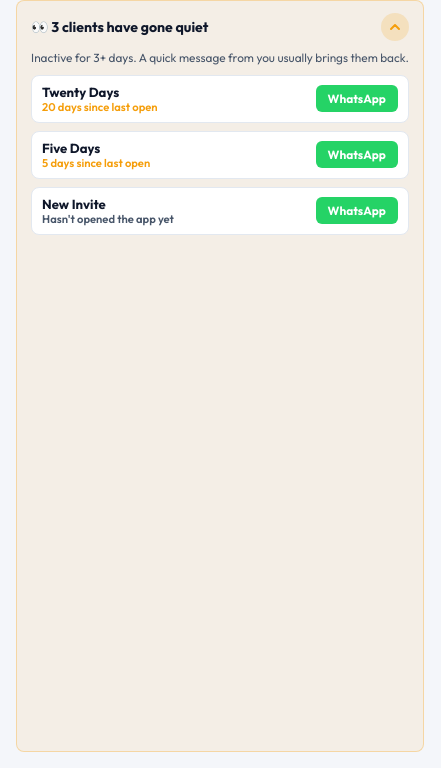
it: CoachQuietClients › opens WhatsApp to the client and ticks them as messaged
The width and height of the screenshot is (441, 768).
Check: the text "👀 3 clients have gone quiet" is shown, box [31,18,208,36]
Click the 1st button "WhatsApp" at [357, 99], box [316,85,398,112]
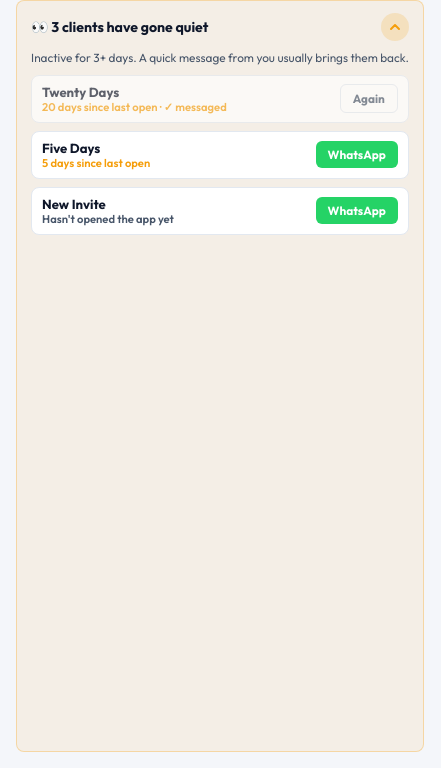
Check: the text "20 days since last open · ✓ messaged" is shown, box [42,100,227,114]
